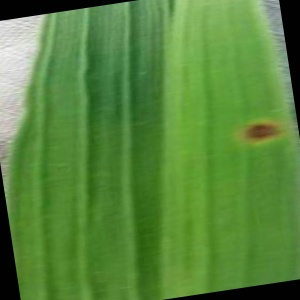Bacterial_Leaf_Blight: (231, 107, 291, 155)
